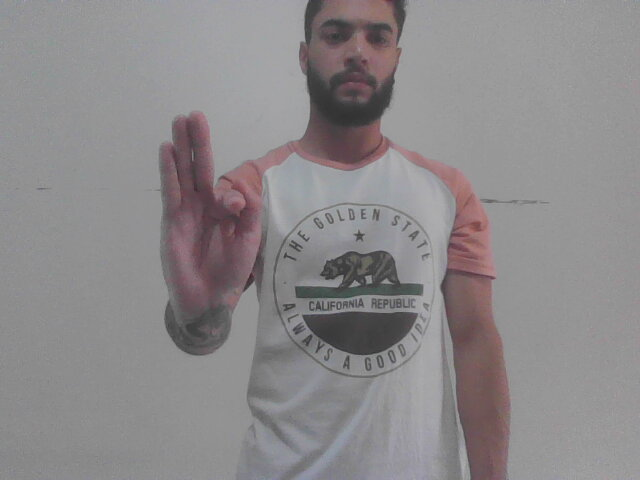f: (148, 107, 264, 323)
